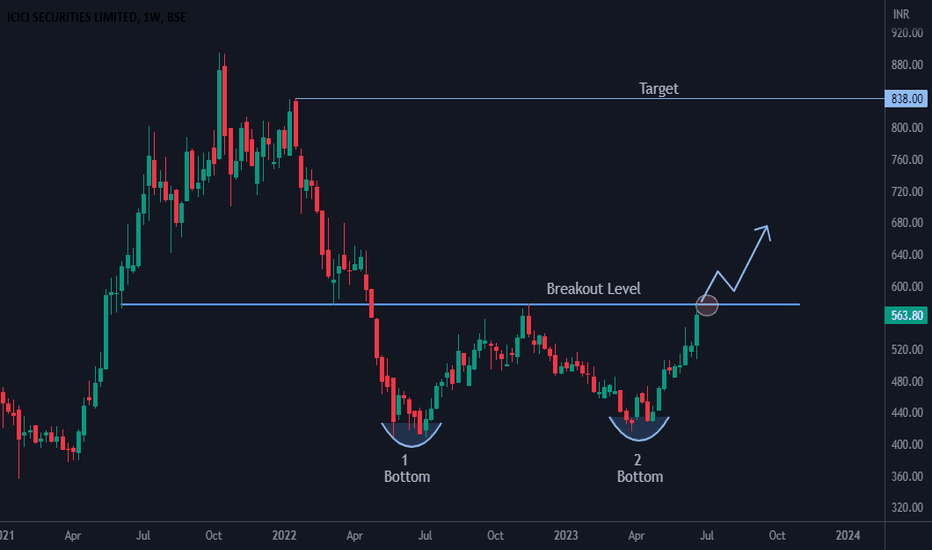W-Pattern: (356, 311, 699, 441)
